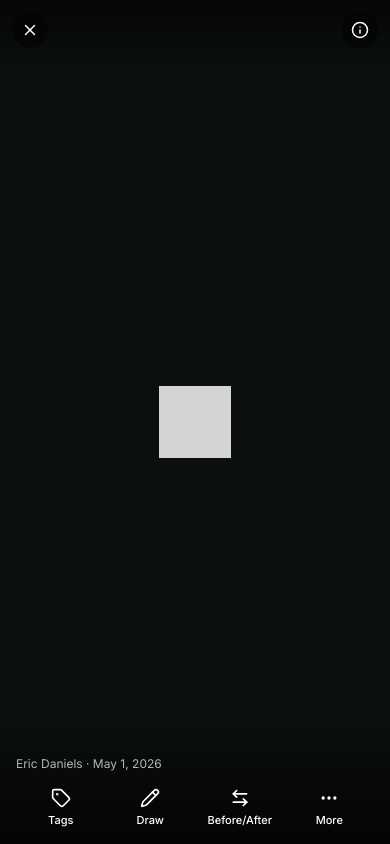
Test: PhotoViewer — Set as cover (⋯ More) › reflects cover state: the menu entry is a disabled 'Cover photo', not an action
Click the button "More".
click(329, 808)  # box [284,784,374,832]
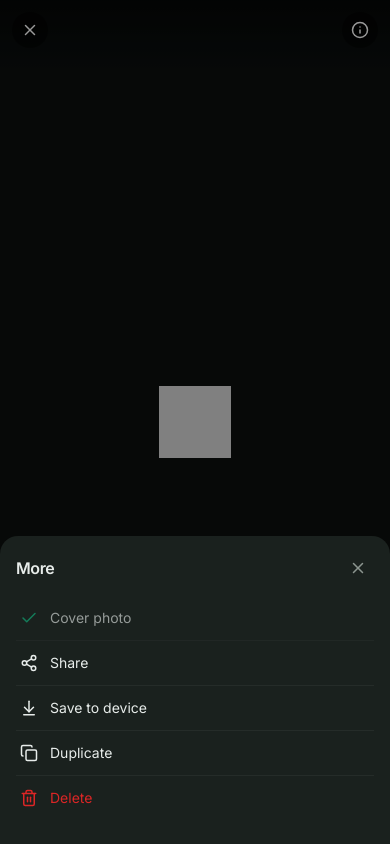
Expected: the button "Cover photo" is disabled, [16,596,374,641]
